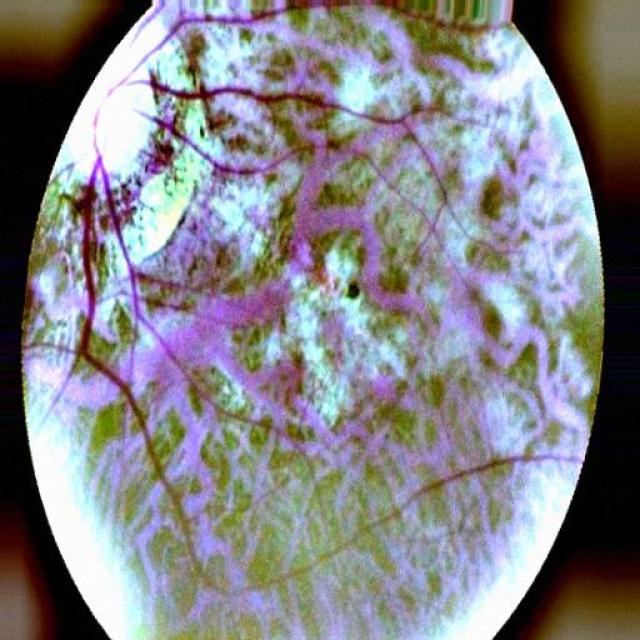Nerves: (75, 109, 189, 536), (105, 75, 429, 130), (135, 9, 289, 69), (149, 115, 288, 174)
Optic Disk: (51, 0, 189, 180)
